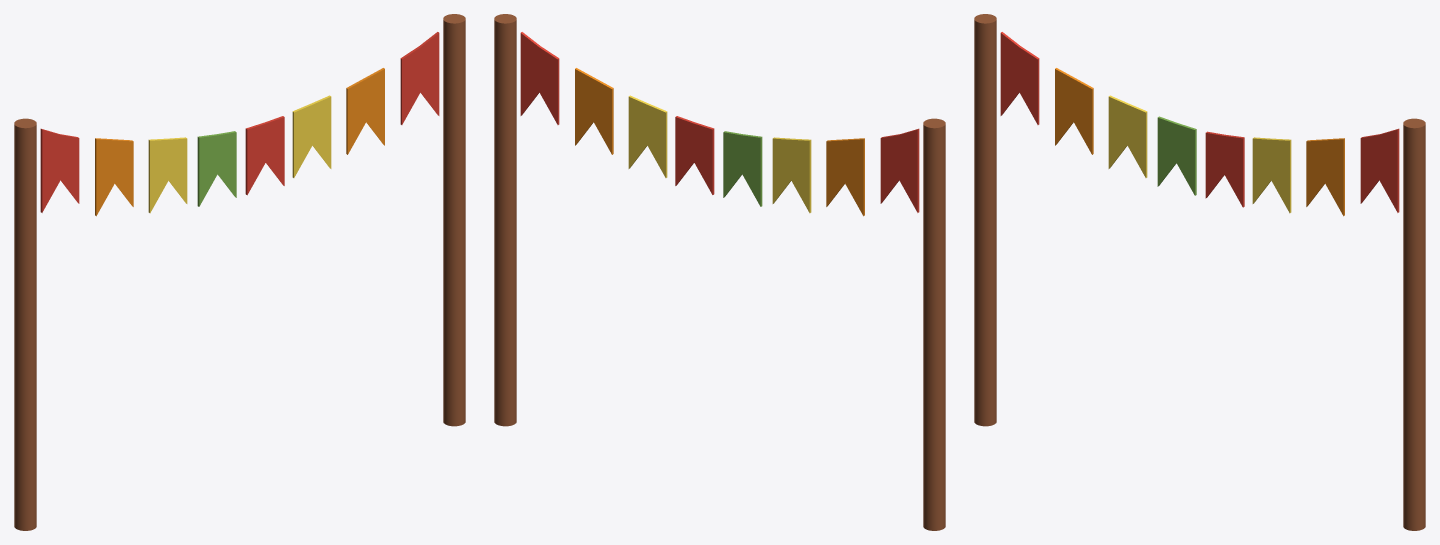
File: Флажки — копия.fbx
The picture shows the model from 3 angles, left to right: view 1: azimuth 30°, elevation 25°; view 2: azimuth 150°, elevation 25°; view 3: azimuth 330°, elevation 25°; orthographic projection.
Visible parts, largest first — view 1: Cylinder, Plane, Plane.001, Plane.002, Plane.004, Plane.003; view 2: Cylinder, Plane, Plane.001, Plane.002, Plane.004, Plane.003; view 3: Cylinder, Plane, Plane.001, Plane.002, Plane.003, Plane.004.
Boxes of the visible parts, x1,y1,x2,y2 form: Cylinder: [14, 14, 465, 530]; Plane: [40, 32, 439, 212]; Plane.001: [95, 68, 384, 216]; Plane.002: [148, 95, 331, 213]; Plane.004: [245, 116, 284, 195]; Plane.003: [197, 131, 236, 206]; Cylinder: [494, 14, 945, 530]; Plane: [520, 32, 919, 212]; Plane.001: [575, 68, 864, 216]; Plane.002: [628, 95, 811, 213]; Plane.004: [675, 116, 714, 194]; Plane.003: [723, 131, 762, 206]; Cylinder: [974, 14, 1425, 530]; Plane: [1000, 32, 1399, 212]; Plane.001: [1055, 68, 1344, 216]; Plane.002: [1108, 95, 1291, 213]; Plane.003: [1157, 116, 1196, 195]; Plane.004: [1205, 131, 1244, 207].
Size of the model in its own units: 836 by 717 by 36.5.
